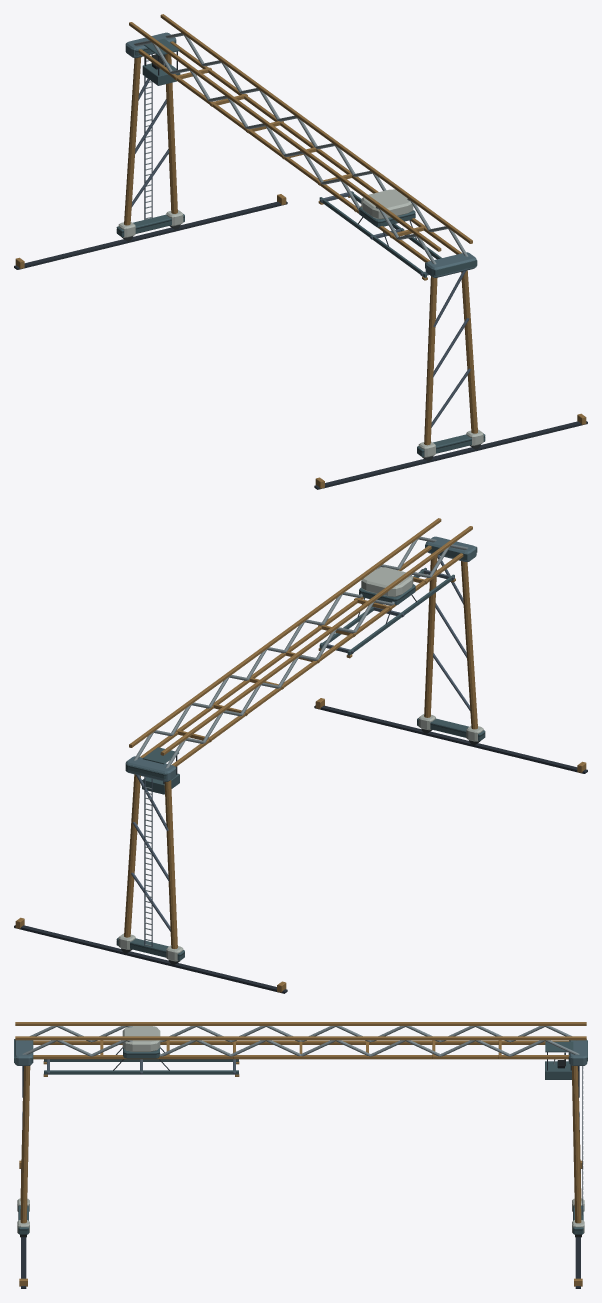
File: HS-01_yard_bridge.glb
3 renders of one model, top to bottom at view 1: azimuth 30°, elevation 25°; view 2: azimuth 150°, elevation 25°; view 3: azimuth 270°, elevation 25°, orthographic. The views are drawn at different scales.
Parts seen in each view (by area): view 1: HS-01_yard_bridge; view 2: HS-01_yard_bridge; view 3: HS-01_yard_bridge.
Boxes of the visible parts, x1=… form: HS-01_yard_bridge: x1=14, y1=14, x2=587, y2=489; HS-01_yard_bridge: x1=14, y1=518, x2=587, y2=993; HS-01_yard_bridge: x1=14, y1=1022, x2=587, y2=1288.
Bounding box in the file's own units: 17.4 × 13.18 × 34.56.
